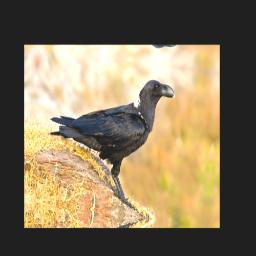Crow: (43, 64, 178, 215)
